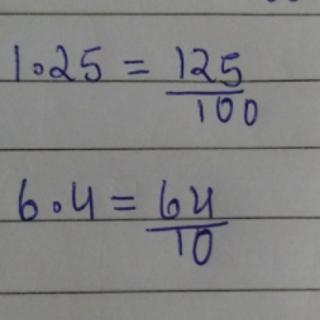.: (45, 199, 65, 217), (30, 63, 47, 80)
0: (193, 226, 217, 271), (244, 98, 262, 130), (215, 93, 234, 123)
1: (10, 38, 21, 83), (174, 228, 186, 257), (195, 96, 205, 126)
2: (48, 43, 78, 84), (191, 47, 217, 84)
4: (66, 176, 97, 221), (188, 182, 218, 220)
5: (78, 44, 110, 86), (219, 51, 245, 91)
6: (16, 179, 42, 219), (157, 181, 180, 221)
